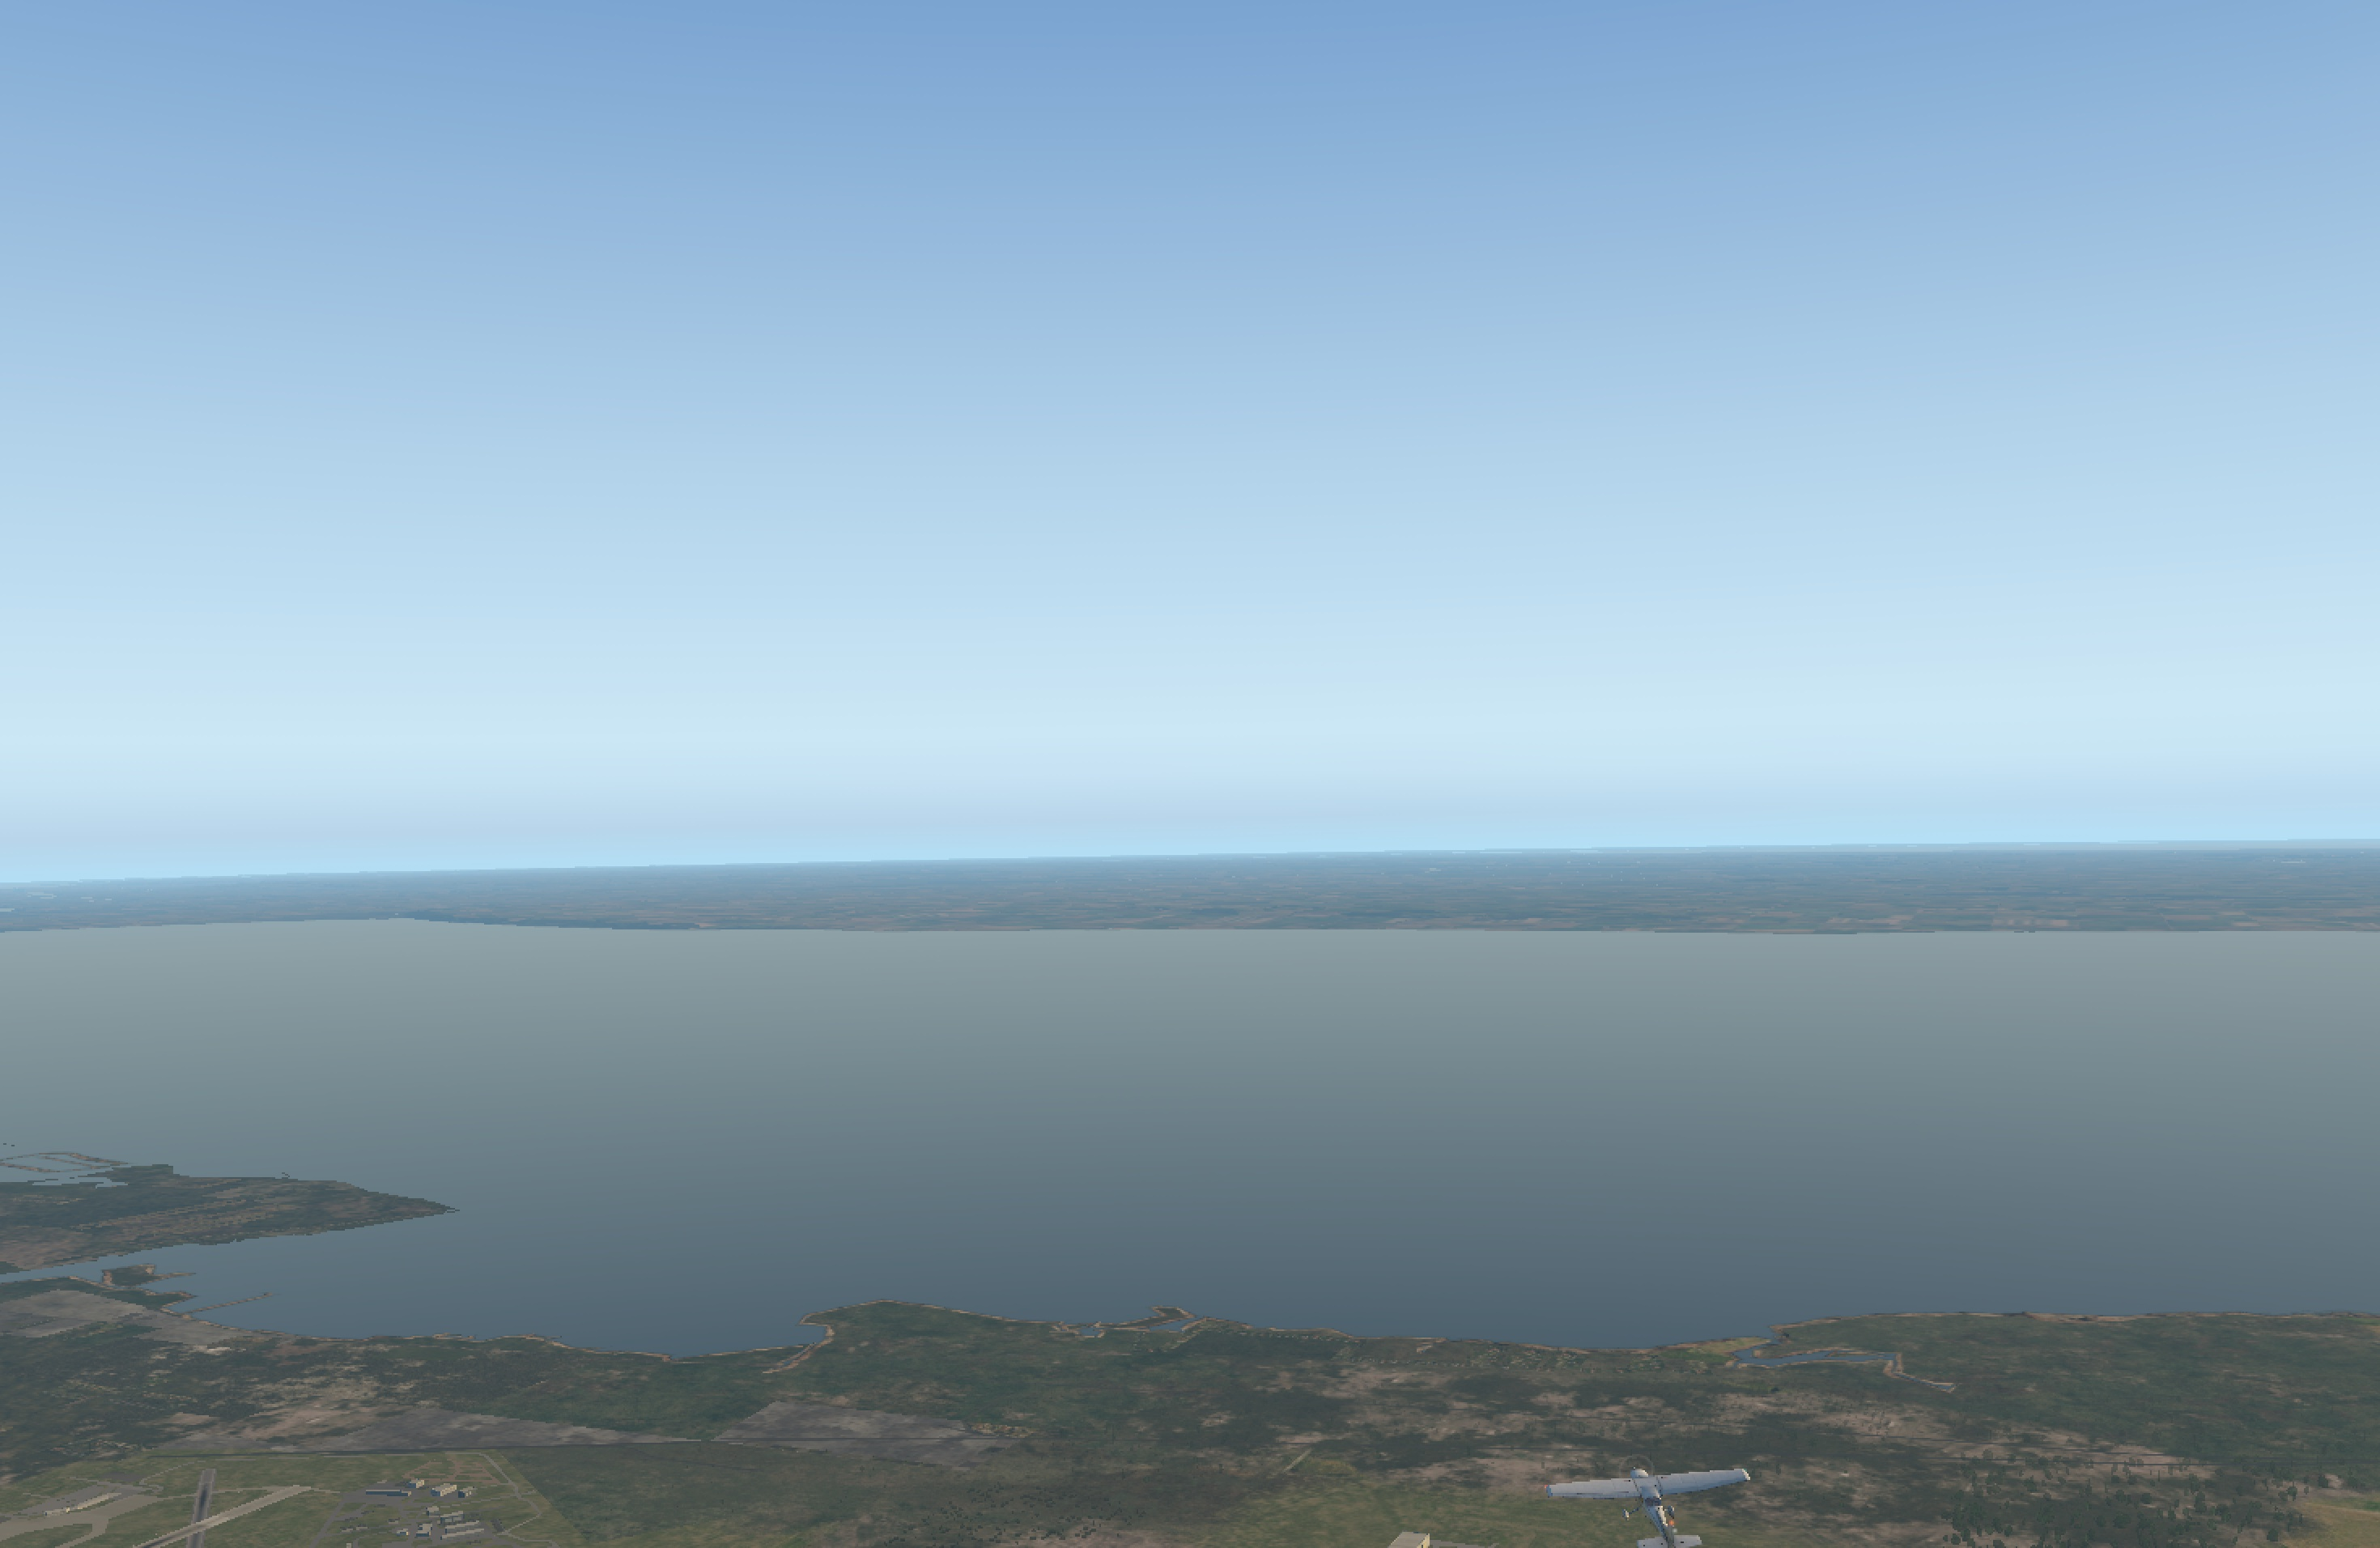aircraft: (1579, 1466, 1714, 1517)
